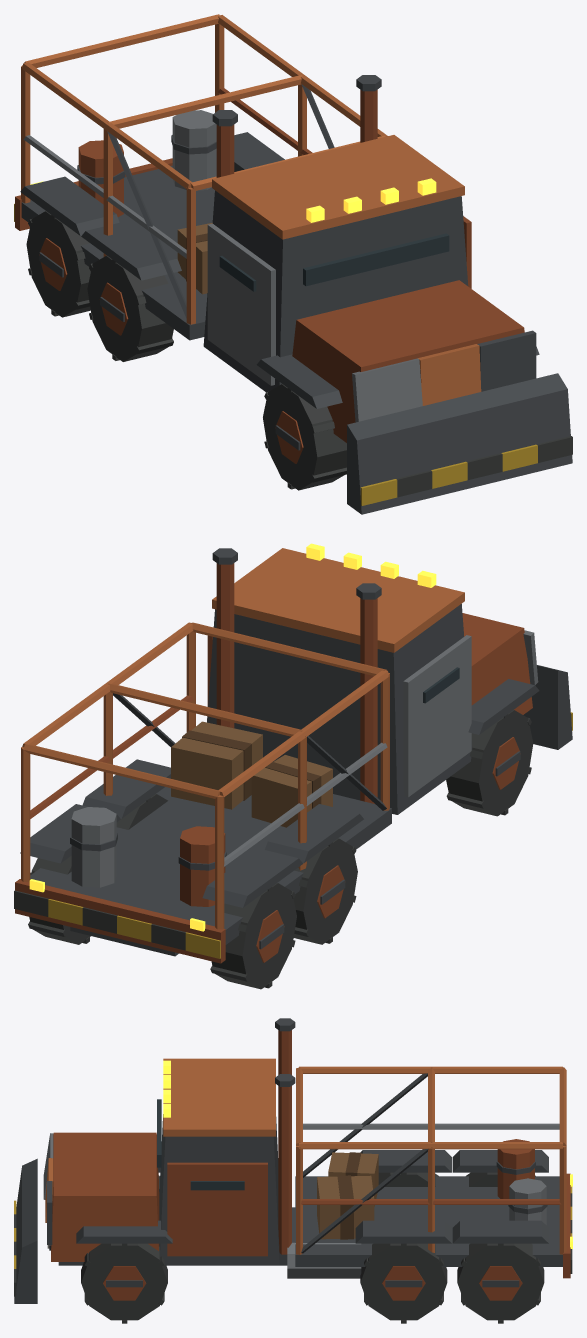
File: vehicle_rig.glb
3 views of the same model, one above another, from view 1: azimuth 30°, elevation 25°; view 2: azimuth 150°, elevation 25°; view 3: azimuth 270°, elevation 25° (orthographic). The views are drawn at different scales.
Visible parts, largest first — view 1: body, wheel_fr, wheel_mr, wheel_rr; view 2: body, wheel_fr, wheel_rr, wheel_mr, wheel_rl, wheel_ml; view 3: body, wheel_fl, wheel_rl, wheel_ml, wheel_mr, wheel_rr.
Boxes of the visible parts, x1,y1,x2,y2 form: body: (14, 14, 572, 514); wheel_fr: (263, 384, 346, 490); wheel_mr: (87, 255, 173, 361); wheel_rr: (26, 211, 90, 317); body: (14, 543, 572, 963); wheel_fr: (446, 710, 533, 816); wheel_rr: (210, 883, 296, 989); wheel_mr: (293, 838, 357, 944); wheel_rl: (28, 856, 90, 944); wheel_ml: (116, 794, 167, 829); body: (14, 1018, 572, 1303); wheel_fl: (81, 1243, 167, 1323); wheel_rl: (457, 1243, 544, 1323); wheel_ml: (360, 1243, 447, 1323); wheel_mr: (378, 1172, 438, 1186); wheel_rr: (466, 1172, 535, 1186).
Size of the model in its own units: 2.64 by 3.3 by 7.2.
